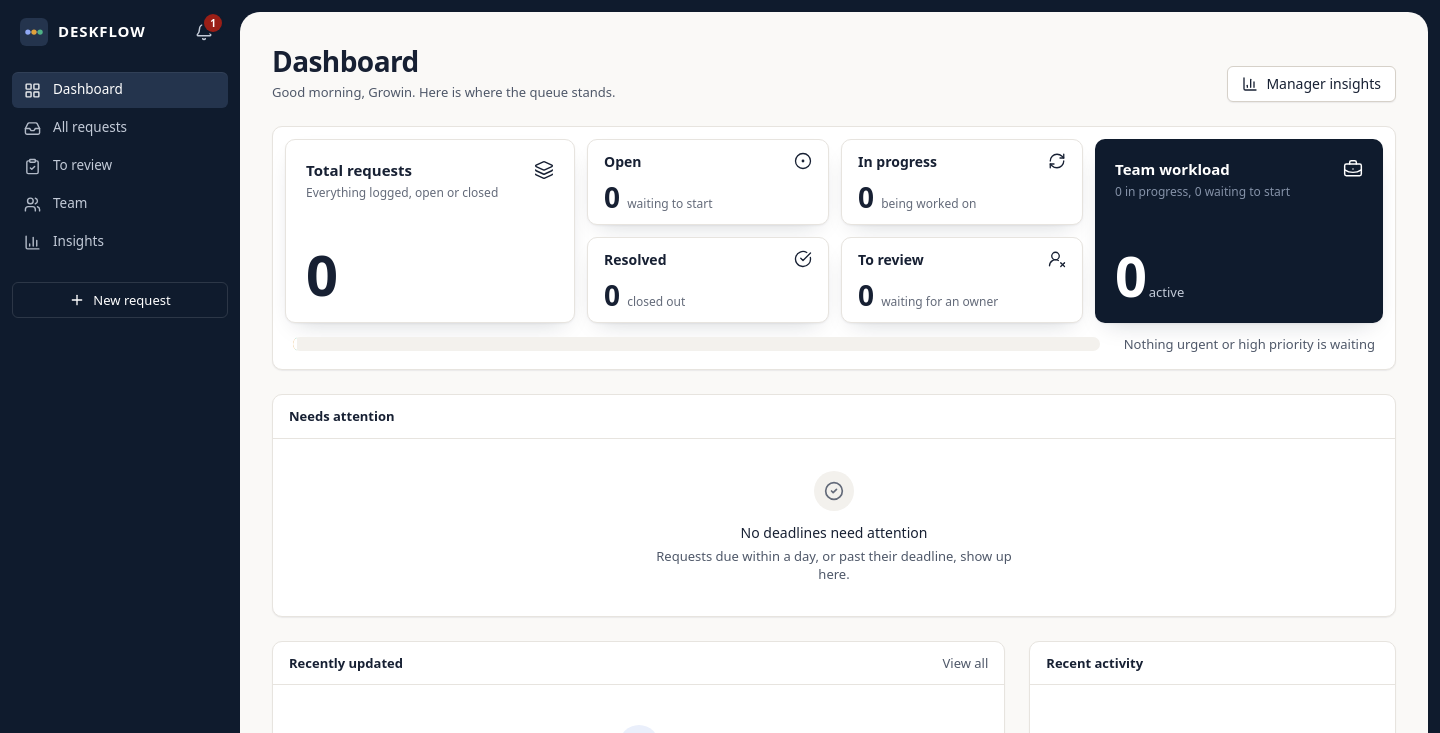
Scenario: notifications › shows the unread count, opens the request and marks it read
The image size is (1440, 733).
Click the button named "Notifications, 1 unread" at point(204, 32), box [188,16,220,48]
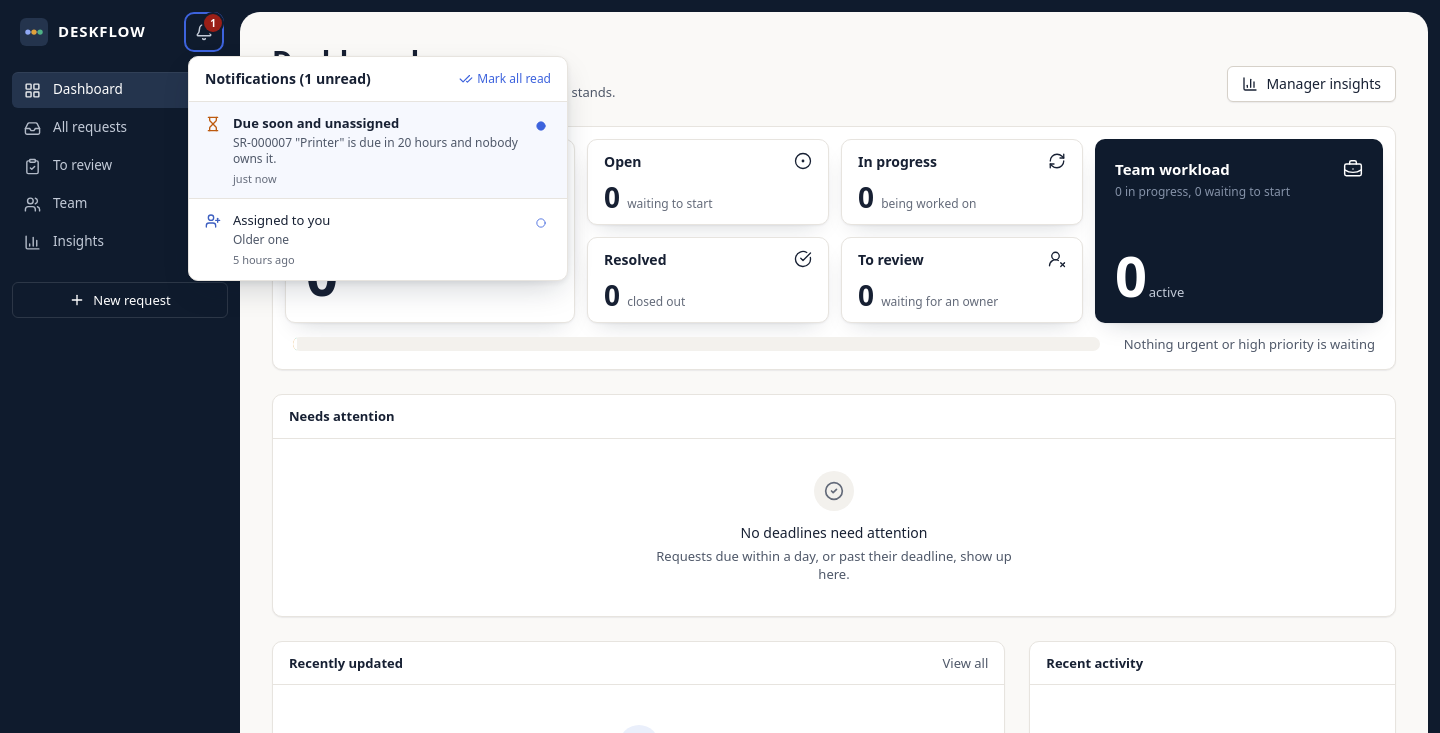
Click the text "Due soon and unassigned" at point(316, 123), box [233,114,399,132]
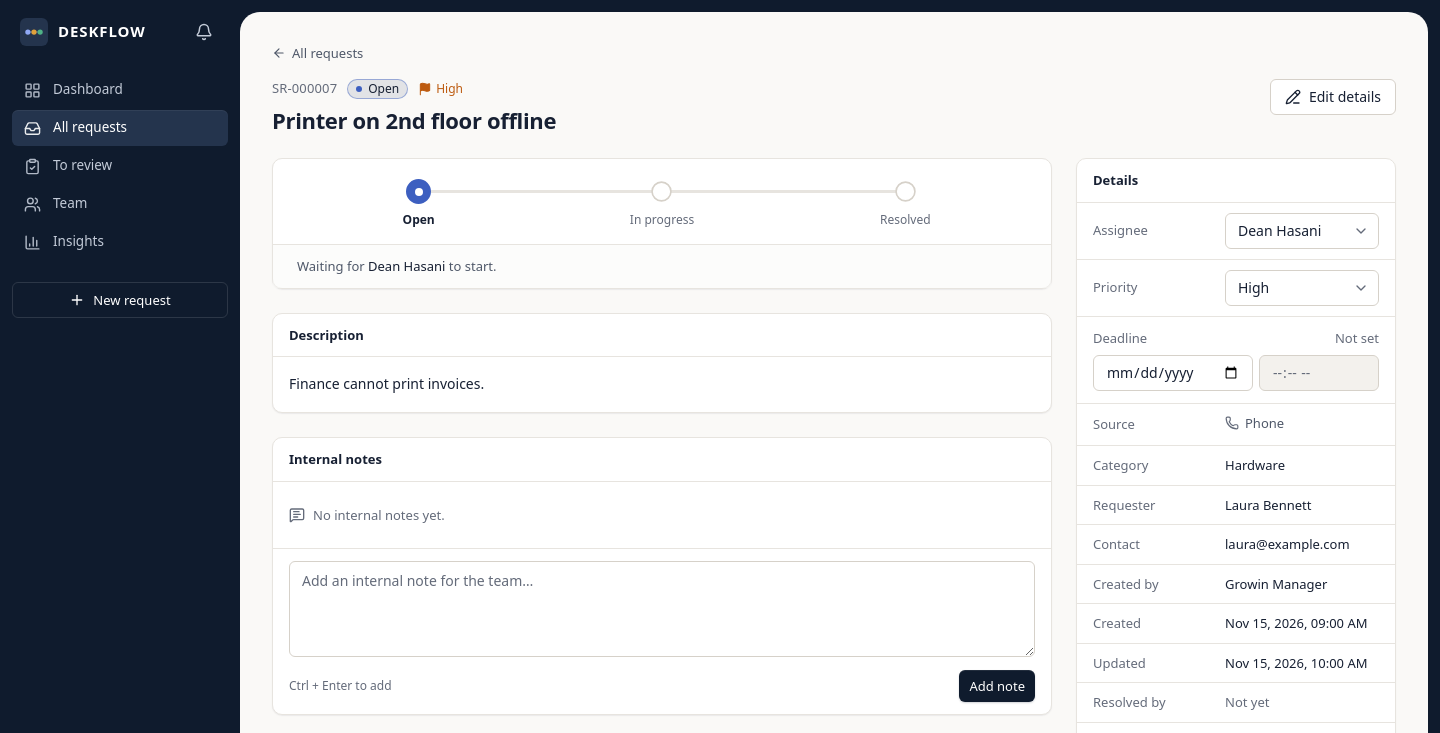
Result: the heading "Printer on 2nd floor offline" is shown at [272,107,556,134]
